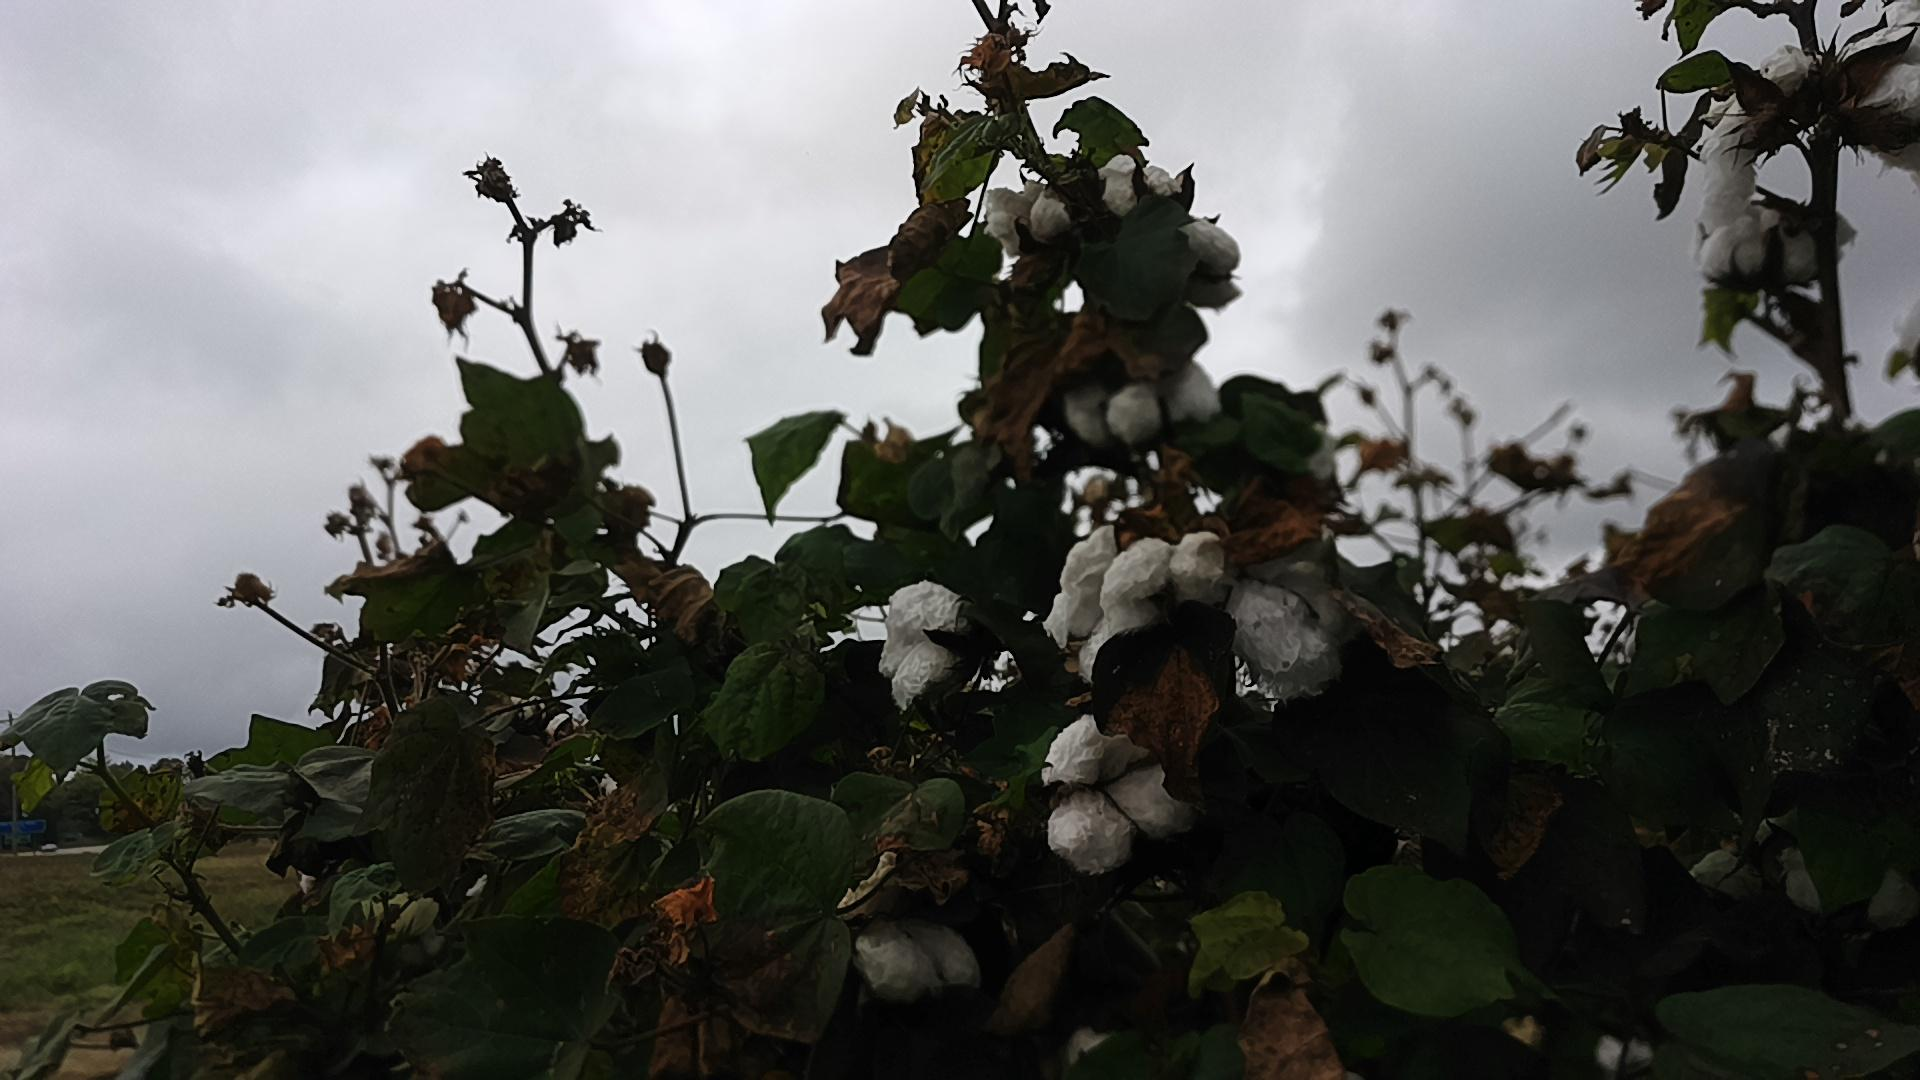cotton_ready: (1043, 525, 1222, 682), (839, 848, 985, 1009), (1042, 720, 1183, 880), (1697, 49, 1818, 231), (1098, 148, 1246, 289), (1229, 554, 1353, 704), (1060, 356, 1218, 452), (1842, 8, 1920, 170), (872, 580, 963, 708), (1698, 211, 1824, 290), (982, 178, 1075, 261), (353, 881, 452, 948)
